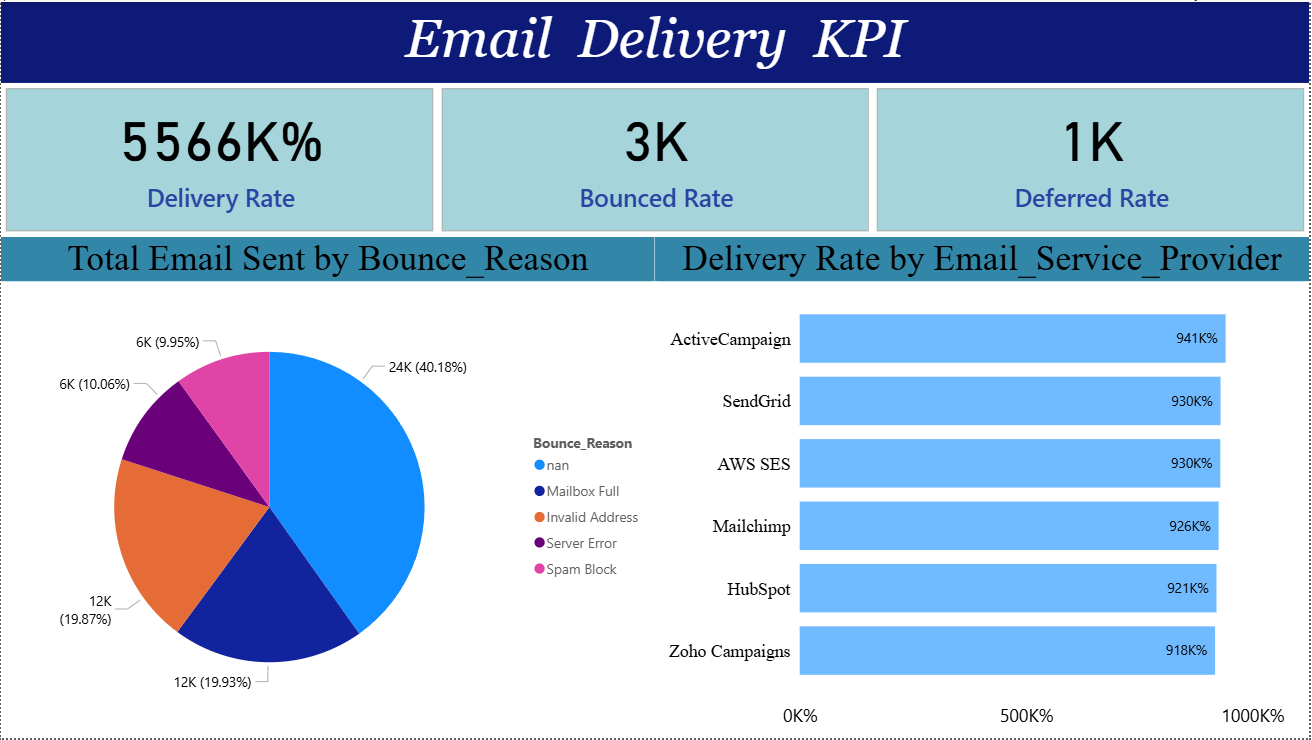

The page's visual inventory and layout, read from the dashboard file:
{"tool":"powerbi","page":{"name":"Email Delivery KPI","canvas":[1280,720],"ordinal":1},"visuals":[{"type":"textbox","box":[0,0,1280.3,79.5],"z":0},{"type":"cardVisual","fields":{"Data":["Spam Detection Email.Delivery Rate","Spam Detection Email.Bounced Rate","Spam Detection Email.Deferred Rate"]},"box":[0,79.5,1280.3,150.4],"z":1000},{"type":"pieChart","fields":{"Category":["Spam Detection Email.Bounce_Reason"],"Y":["Spam Detection Email.Total Email Sent"]},"box":[0,229.9,639.5,490.4],"z":2000},{"type":"clusteredBarChart","fields":{"Category":["Spam Detection Email.Email_Service_Provider"],"Y":["Spam Detection Email.Delivery Rate"]},"box":[639.5,229.9,640.8,490.4],"z":3000}]}

Visuals, with their boxes in screenshot pixels (x1, y1, x2, y2), scaled from the page's 1280x720 canvas onto the 1312x740 screenshot:
textbox: [0,0,1311,82]
cardVisual - Spam Detection Email.Delivery Rate x Spam Detection Email.Bounced Rate: [0,82,1311,236]
pieChart - Spam Detection Email.Bounce_Reason x Spam Detection Email.Total Email Sent: [0,236,655,739]
clusteredBarChart - Spam Detection Email.Email_Service_Provider x Spam Detection Email.Delivery Rate: [655,236,1311,739]
